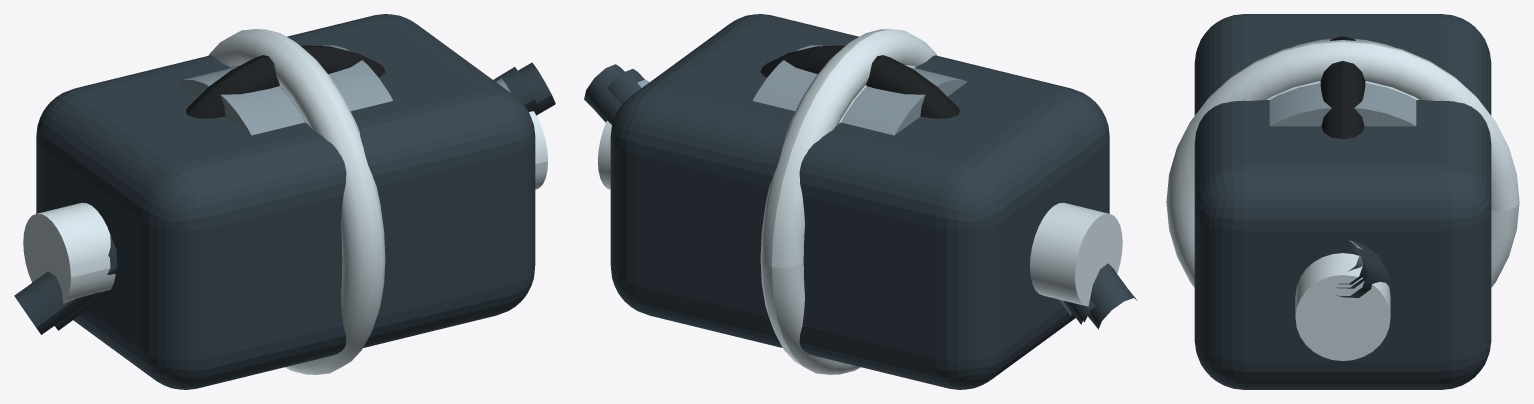
Rendered from g4ed_cooling.glb.
3 renders of one model, left to right at view 1: azimuth 30°, elevation 25°; view 2: azimuth 150°, elevation 25°; view 3: azimuth 270°, elevation 25°, orthographic.
Parts seen in each view (by area): view 1: asset_mesh__g4ed_160__reference_body, asset_mesh__g4ed_153__reference_rim, asset_mesh__g4ed_160__reference_axis, asset_mesh__g4ed_153__reference_rotor, asset_mesh__g4ed_159__reference_seal, asset_mesh__g4ed_167__reference_flow_path, asset_mesh__g4ed_173__reference_flow_path; view 2: asset_mesh__g4ed_160__reference_body, asset_mesh__g4ed_153__reference_rim, asset_mesh__g4ed_160__reference_axis, asset_mesh__g4ed_153__reference_rotor, asset_mesh__g4ed_159__reference_seal, asset_mesh__g4ed_167__reference_flow_path, asset_mesh__g4ed_173__reference_flow_path; view 3: asset_mesh__g4ed_160__reference_body, asset_mesh__g4ed_153__reference_rim, asset_mesh__g4ed_160__reference_axis, asset_mesh__g4ed_153__reference_rotor, asset_mesh__g4ed_159__reference_seal, asset_mesh__g4ed_167__reference_flow_path, asset_mesh__g4ed_173__reference_flow_path.
Boxes of the visible parts, x1,y1,x2,y2 form: asset_mesh__g4ed_160__reference_body: (36,14,535,389); asset_mesh__g4ed_153__reference_rim: (208,29,385,374); asset_mesh__g4ed_160__reference_axis: (23,111,547,303); asset_mesh__g4ed_153__reference_rotor: (178,45,392,135); asset_mesh__g4ed_159__reference_seal: (186,45,385,118); asset_mesh__g4ed_167__reference_flow_path: (14,62,555,334); asset_mesh__g4ed_173__reference_flow_path: (54,67,538,330); asset_mesh__g4ed_160__reference_body: (610,14,1109,389); asset_mesh__g4ed_153__reference_rim: (760,29,937,374); asset_mesh__g4ed_160__reference_axis: (598,120,1122,306); asset_mesh__g4ed_153__reference_rotor: (752,45,967,135); asset_mesh__g4ed_159__reference_seal: (760,45,959,118); asset_mesh__g4ed_167__reference_flow_path: (584,64,1137,329); asset_mesh__g4ed_173__reference_flow_path: (607,69,1094,324); asset_mesh__g4ed_160__reference_body: (1194,14,1491,389); asset_mesh__g4ed_153__reference_rim: (1166,40,1519,287); asset_mesh__g4ed_160__reference_axis: (1295,253,1390,360); asset_mesh__g4ed_153__reference_rotor: (1269,39,1416,126); asset_mesh__g4ed_159__reference_seal: (1320,36,1365,139); asset_mesh__g4ed_167__reference_flow_path: (1336,248,1390,297); asset_mesh__g4ed_173__reference_flow_path: (1336,240,1381,288).
Size of the model in its own units: 2.23 by 1.27 by 1.27.
